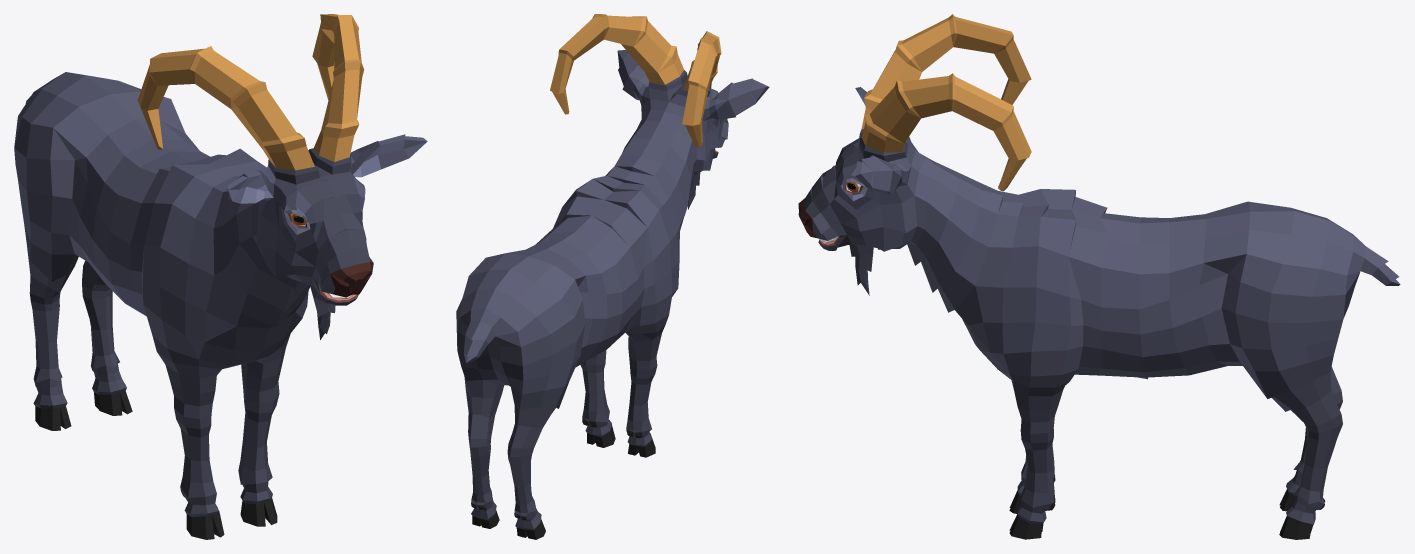
The model's file is LowPoly_Goat_Male_8.obj.
3 renders of one model, left to right at view 1: azimuth 30°, elevation 25°; view 2: azimuth 150°, elevation 25°; view 3: azimuth 270°, elevation 25°, orthographic. The views are drawn at different scales.
Parts seen in each view (by area): view 1: Goat_Male_8_Cube.017; view 2: Goat_Male_8_Cube.017; view 3: Goat_Male_8_Cube.017.
Part boxes in pixels (x1,y1,x2,y2): Goat_Male_8_Cube.017: [14, 14, 427, 539]; Goat_Male_8_Cube.017: [456, 14, 769, 539]; Goat_Male_8_Cube.017: [798, 14, 1400, 539].
Size of the model in its own units: 0.4074 by 1.03 by 1.18.
